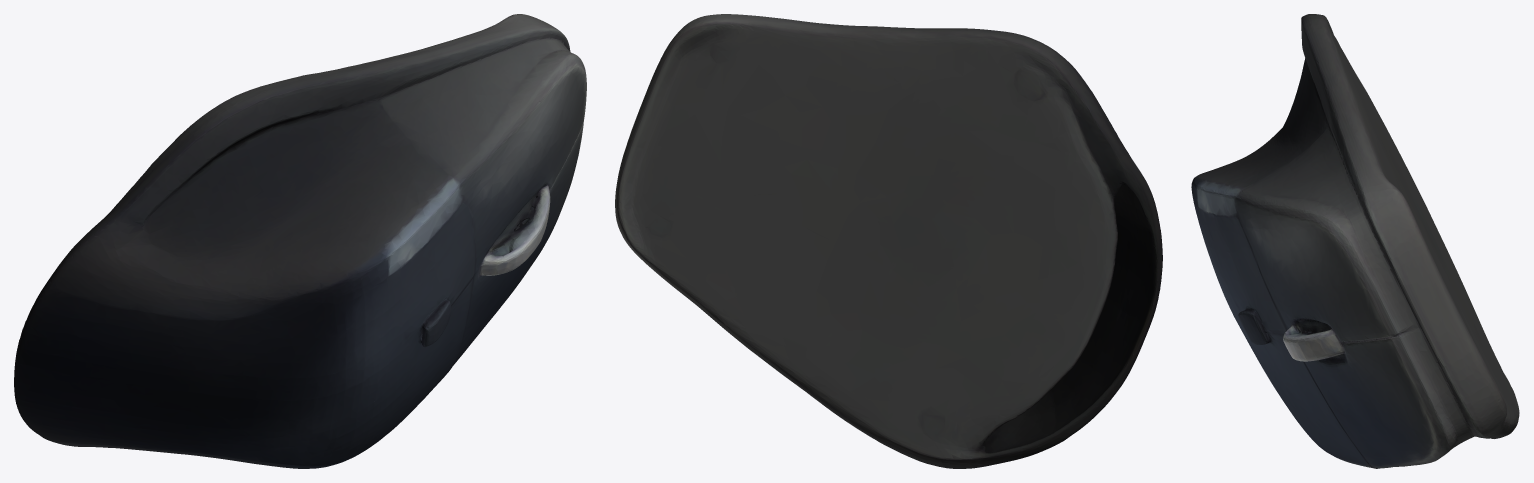
File: base_sam3d.obj
3 views of the same model, side by side, from view 1: azimuth 30°, elevation 25°; view 2: azimuth 150°, elevation 25°; view 3: azimuth 270°, elevation 25° (orthographic). The views are drawn at different scales.
Bounding box in the file's own units: 0.1365 × 0.0938 × 0.0701.
Materials: 1 (1 with a texture image).
